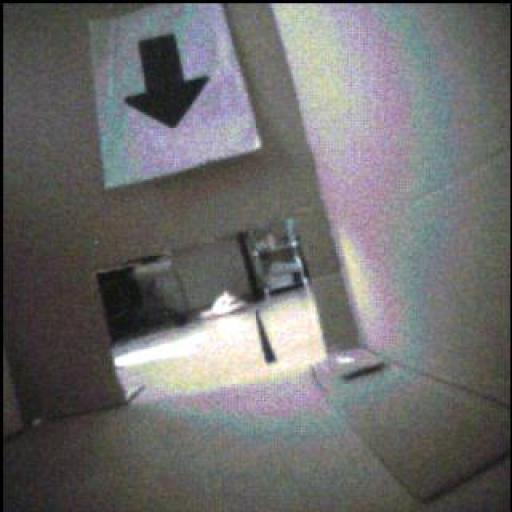arrow: (126, 36, 209, 129)
